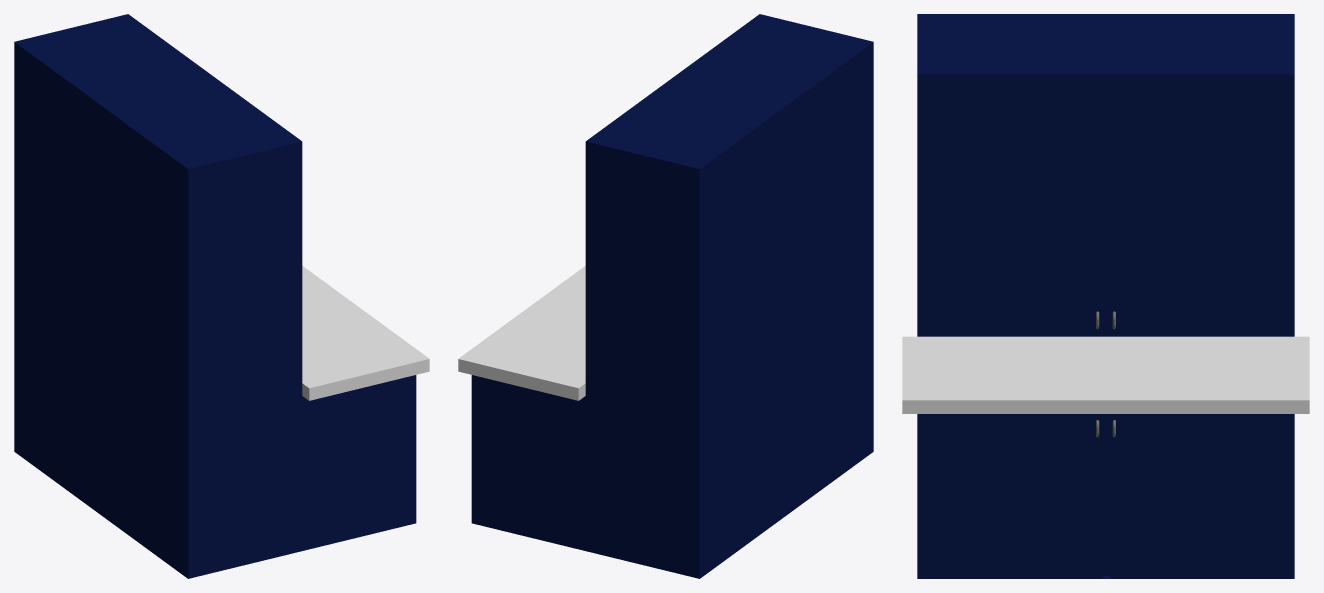
Rendered from MoreStorage.fbx.
The picture shows the model from 3 angles, left to right: view 1: azimuth 30°, elevation 25°; view 2: azimuth 150°, elevation 25°; view 3: azimuth 270°, elevation 25°; orthographic projection. The views are drawn at different scales.
Visible parts, largest first — view 1: TableLowerHalf, TableUpperHalf; view 2: TableLowerHalf, TableUpperHalf; view 3: TableLowerHalf, TableUpperHalf.
Part boxes in pixels (x1,y1,x2,y2): TableLowerHalf: (14,14,416,578); TableUpperHalf: (302,266,429,400); TableLowerHalf: (471,14,873,578); TableUpperHalf: (458,266,585,400); TableLowerHalf: (917,14,1294,578); TableUpperHalf: (902,336,1309,413).
Size of the model in its own units: 389 by 650 by 540.
